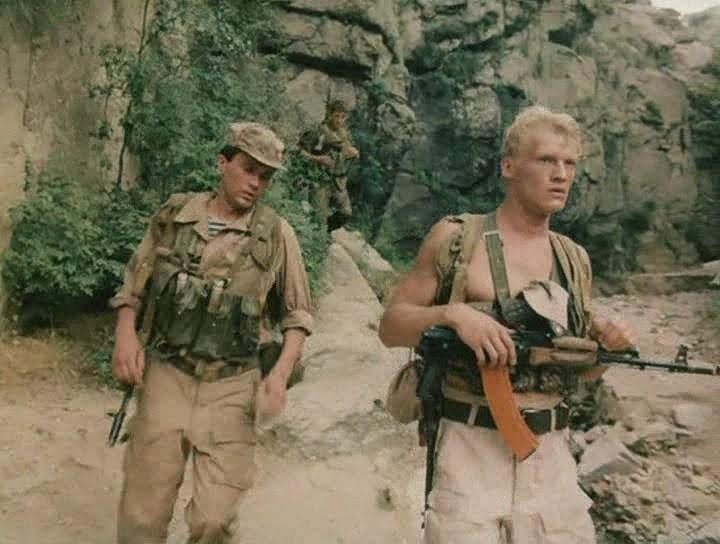gun: (405, 310, 704, 422), (93, 311, 156, 445)
uniform: (412, 207, 591, 526), (129, 184, 277, 535), (292, 108, 353, 221)
